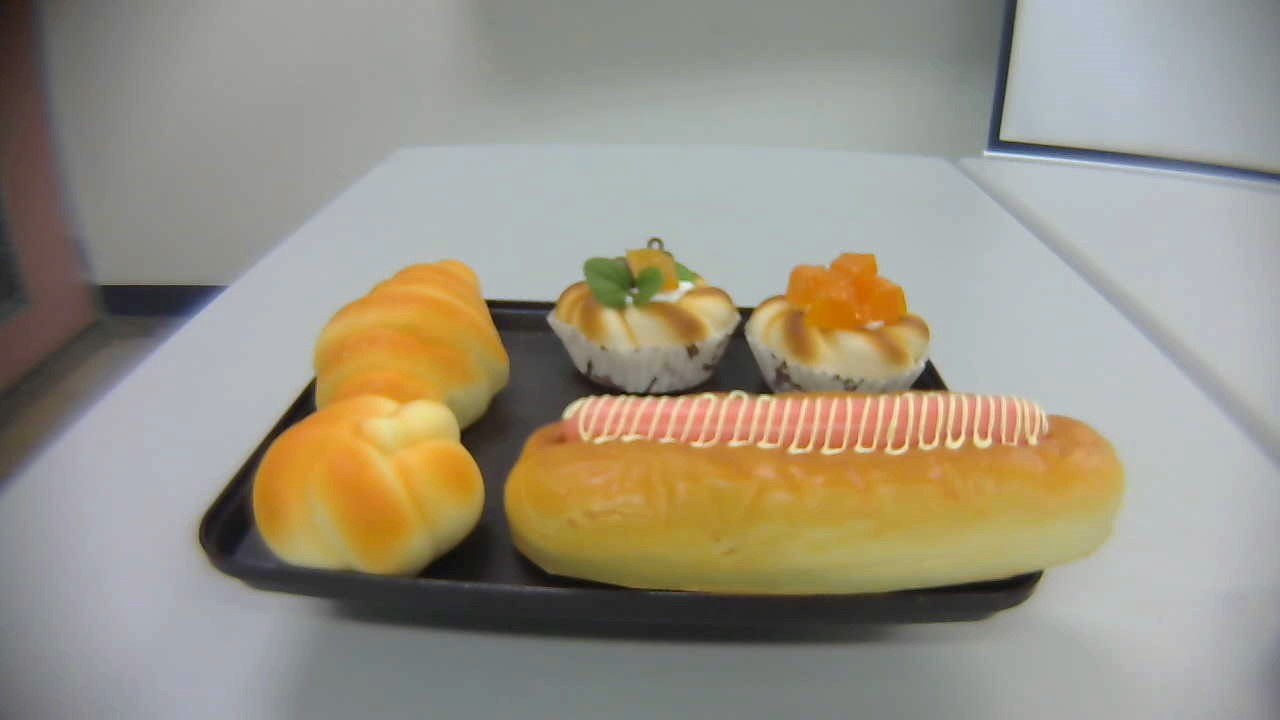croissant: (311, 259, 510, 448)
fruit tart: (545, 236, 740, 394)
hot dog: (504, 392, 1126, 595)
mango tart: (746, 251, 934, 398)
twist bread: (253, 396, 486, 579)
